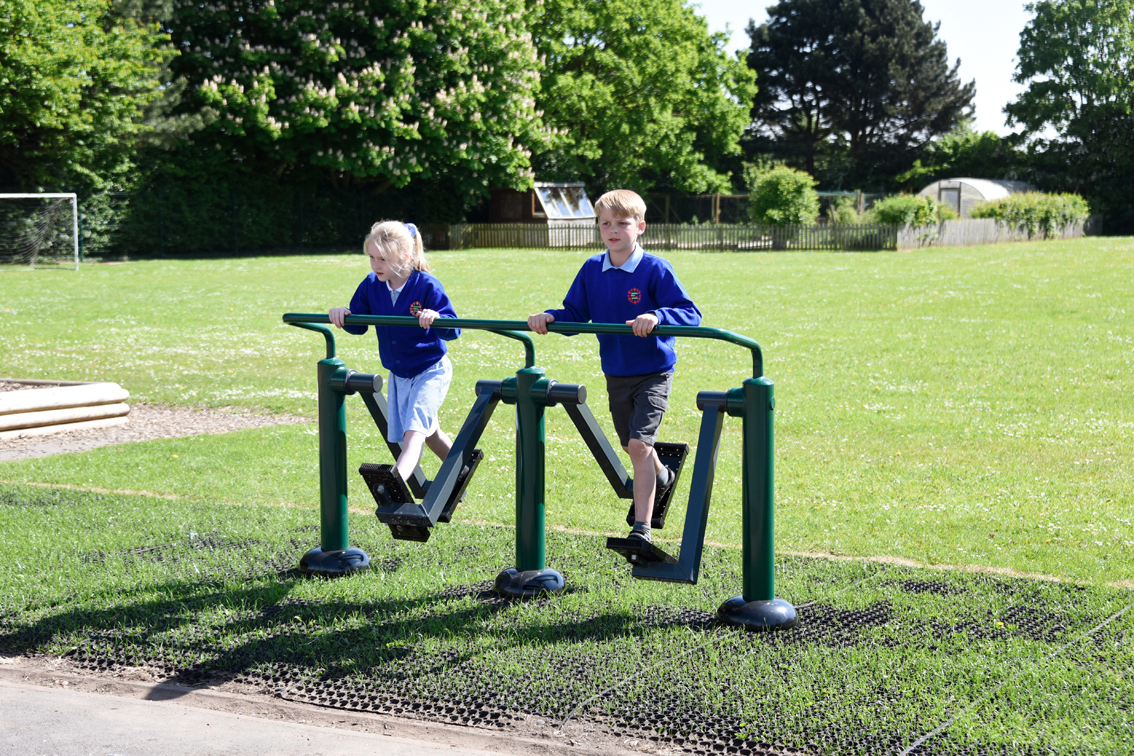Person: (524, 174, 716, 580), (308, 184, 492, 554)
